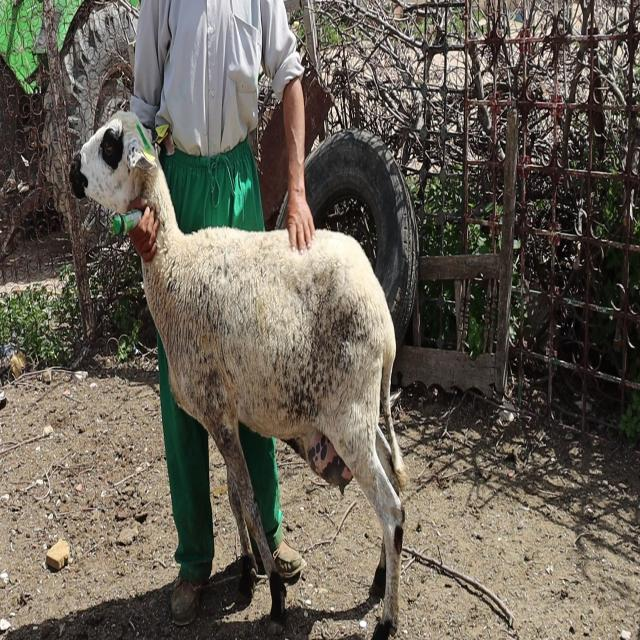Score_3: (70, 113, 406, 639)
